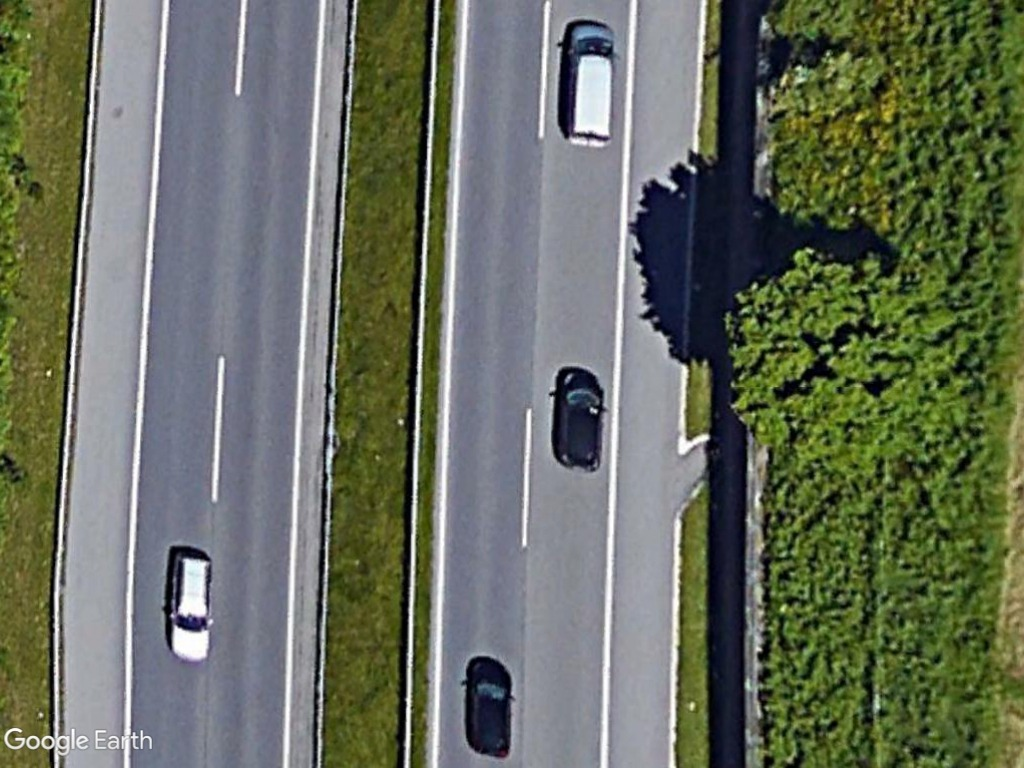car: (164, 547, 218, 669), (552, 373, 607, 474), (467, 659, 517, 759)
van: (560, 12, 620, 153)
